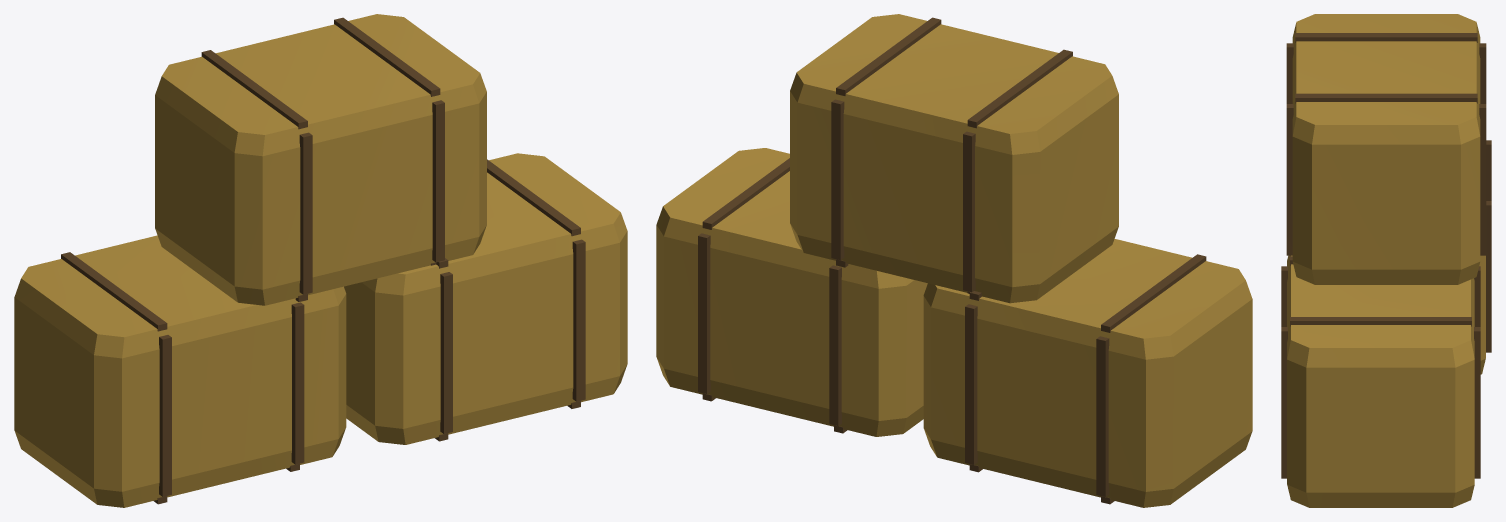
Rendered from Prop_Pastoral_HayBaleStack_001.glb.
3 views of the same model, side by side, from view 1: azimuth 30°, elevation 25°; view 2: azimuth 150°, elevation 25°; view 3: azimuth 270°, elevation 25° (orthographic). The views are drawn at different scales.
Visible parts, largest first — view 1: PA_HayBales_Body; view 2: PA_HayBales_Body; view 3: PA_HayBales_Body.
Boxes of the visible parts, box(x1,y1,x2,y2) form: PA_HayBales_Body: box(14, 14, 627, 507); PA_HayBales_Body: box(656, 14, 1252, 507); PA_HayBales_Body: box(1281, 14, 1491, 507).
Size of the model in its own units: 2.07 by 1.31 by 0.763.
